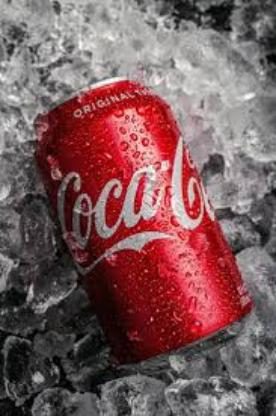Can: (28, 76, 258, 368)
